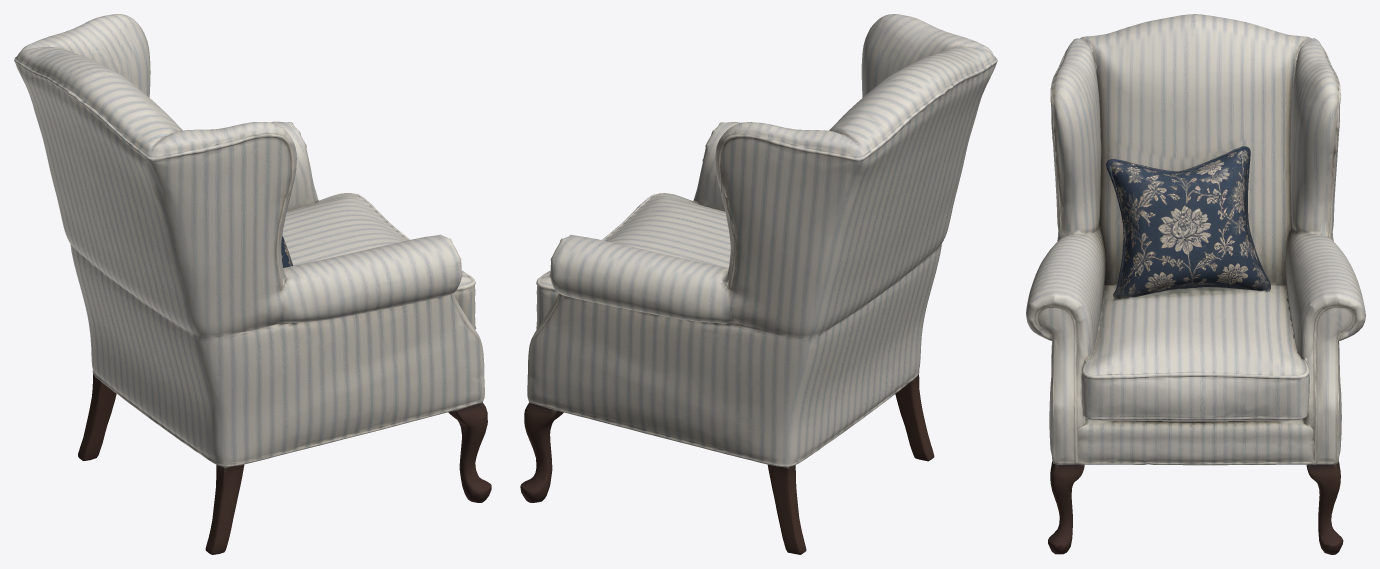
File: wingback-chair.glb
3 renders of one model, left to right at view 1: azimuth 30°, elevation 25°; view 2: azimuth 150°, elevation 25°; view 3: azimuth 270°, elevation 25°, orthographic. The views are drawn at different scales.
Parts seen in each view (by area): view 1: tripo_node_a00a0092-f7a2-41ad-9cc2-9e824fc83cd6; view 2: tripo_node_a00a0092-f7a2-41ad-9cc2-9e824fc83cd6; view 3: tripo_node_a00a0092-f7a2-41ad-9cc2-9e824fc83cd6.
Boxes of the visible parts, box(x1,y1,x2,y2) form: tripo_node_a00a0092-f7a2-41ad-9cc2-9e824fc83cd6: box(14, 14, 491, 554); tripo_node_a00a0092-f7a2-41ad-9cc2-9e824fc83cd6: box(520, 14, 997, 554); tripo_node_a00a0092-f7a2-41ad-9cc2-9e824fc83cd6: box(1026, 14, 1365, 554).
Size of the model in its own units: 0.8208 by 1 by 0.7689.
1 material, 1 textured.
